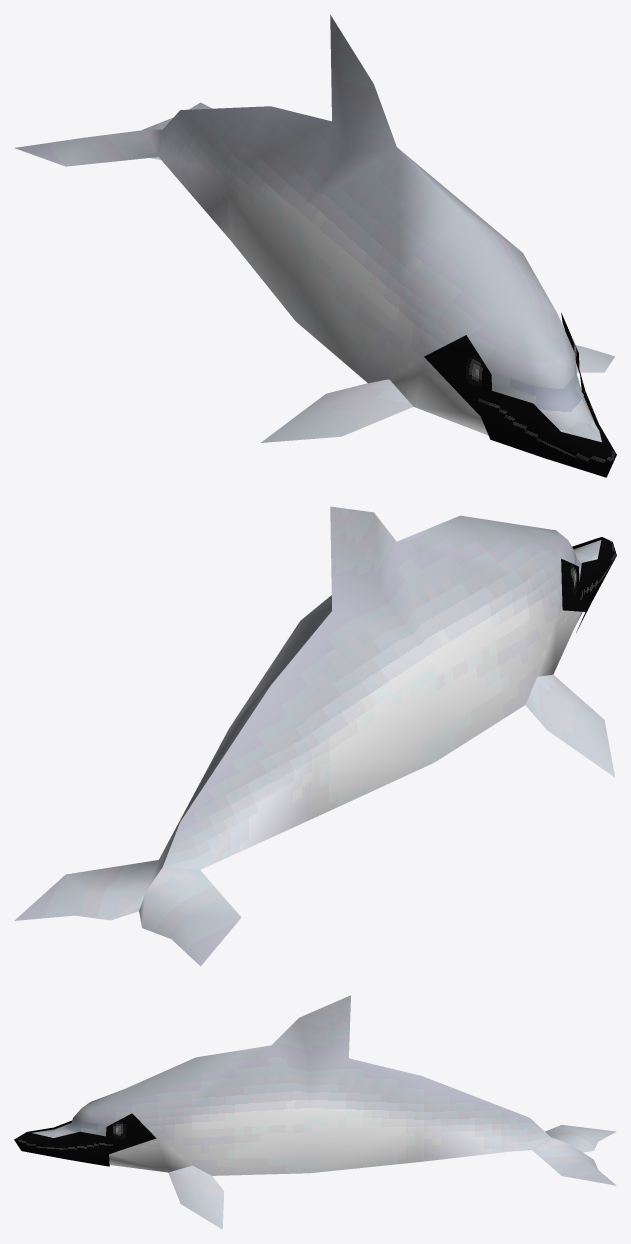
Rendered from Dolphin.obj.
3 views of the same model, one above another, from view 1: azimuth 30°, elevation 25°; view 2: azimuth 150°, elevation 25°; view 3: azimuth 270°, elevation 25° (orthographic). The views are drawn at different scales.
Visible parts, largest first — view 1: polygon1, polygon0; view 2: polygon1, polygon0; view 3: polygon1, polygon0.
Part boxes in pixels (x1,y1,x2,y2): polygon1: [14, 15, 614, 442]; polygon0: [424, 312, 616, 477]; polygon1: [14, 506, 615, 966]; polygon0: [561, 537, 616, 632]; polygon1: [32, 995, 616, 1229]; polygon0: [14, 1113, 156, 1166].
Size of the model in its own units: 10.98 by 9.07 by 27.09.
2 materials, 2 textured.
